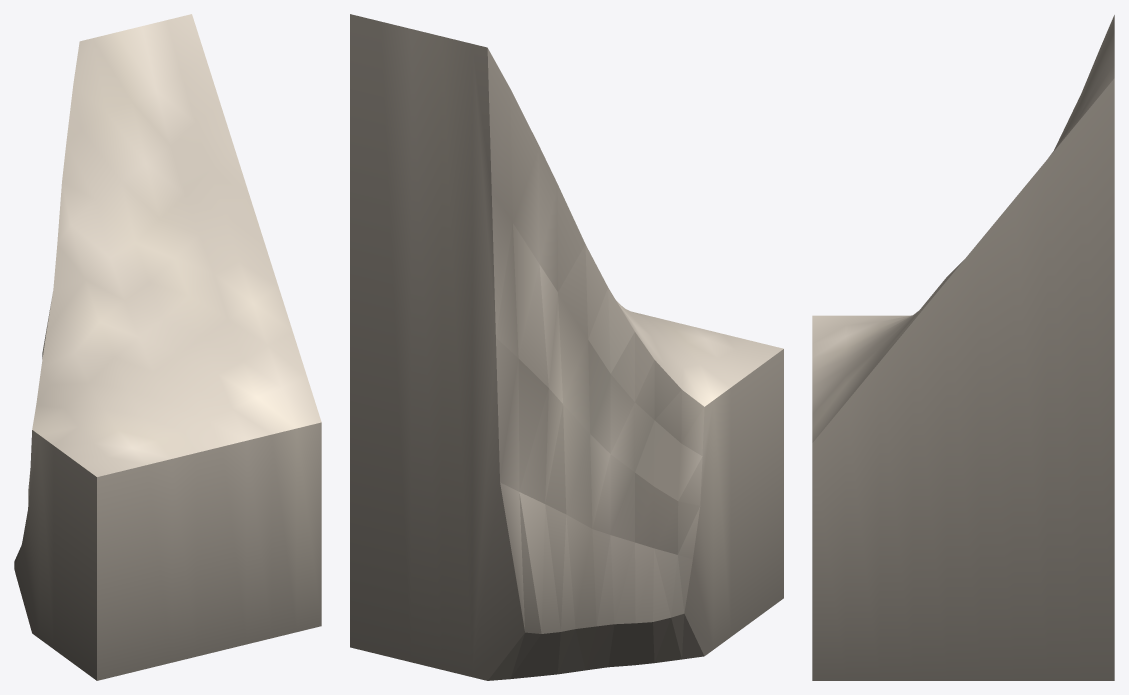
File: SM_VKI_Rock_Cave_CCFO_A.fbx
The picture shows the model from 3 angles, left to right: view 1: azimuth 30°, elevation 25°; view 2: azimuth 150°, elevation 25°; view 3: azimuth 270°, elevation 25°; orthographic projection. The views are drawn at different scales.
Visible parts, largest first — view 1: SM_VKI_Rock_Cave_CCFO_A.001; view 2: SM_VKI_Rock_Cave_CCFO_A.001; view 3: SM_VKI_Rock_Cave_CCFO_A.001.
Boxes of the visible parts, x1,y1,x2,y2 form: SM_VKI_Rock_Cave_CCFO_A.001: (14,14,321,680); SM_VKI_Rock_Cave_CCFO_A.001: (350,14,783,680); SM_VKI_Rock_Cave_CCFO_A.001: (812,15,1114,680).
Bounding box in the file's own units: 1.5 × 3.3 × 1.5.
